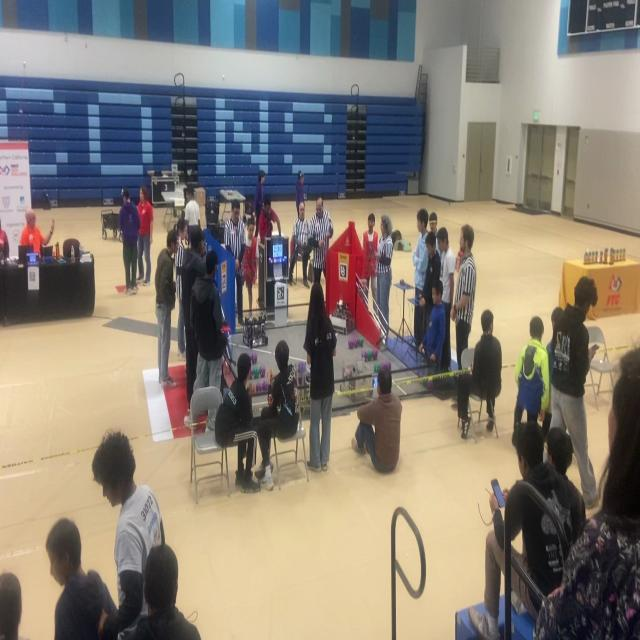artifact_green: (373, 349, 378, 360), (367, 350, 372, 360), (359, 336, 363, 347), (249, 368, 252, 379)
artifact_purple: (425, 381, 435, 391), (250, 352, 257, 364), (255, 382, 262, 394), (259, 365, 265, 378), (253, 366, 259, 378), (299, 363, 306, 373), (357, 336, 363, 347), (351, 339, 357, 349), (261, 382, 267, 392), (256, 382, 262, 392), (255, 382, 261, 392), (373, 349, 378, 360), (344, 367, 350, 376), (263, 382, 268, 392), (374, 363, 379, 373), (353, 339, 358, 349), (367, 350, 372, 360), (381, 363, 388, 370), (249, 352, 253, 364), (381, 362, 387, 370), (249, 368, 253, 379), (349, 339, 353, 350), (253, 353, 257, 364), (386, 363, 391, 371), (353, 339, 357, 349), (298, 362, 302, 372), (362, 350, 366, 360), (302, 363, 306, 372), (348, 340, 352, 349), (380, 363, 385, 370)
